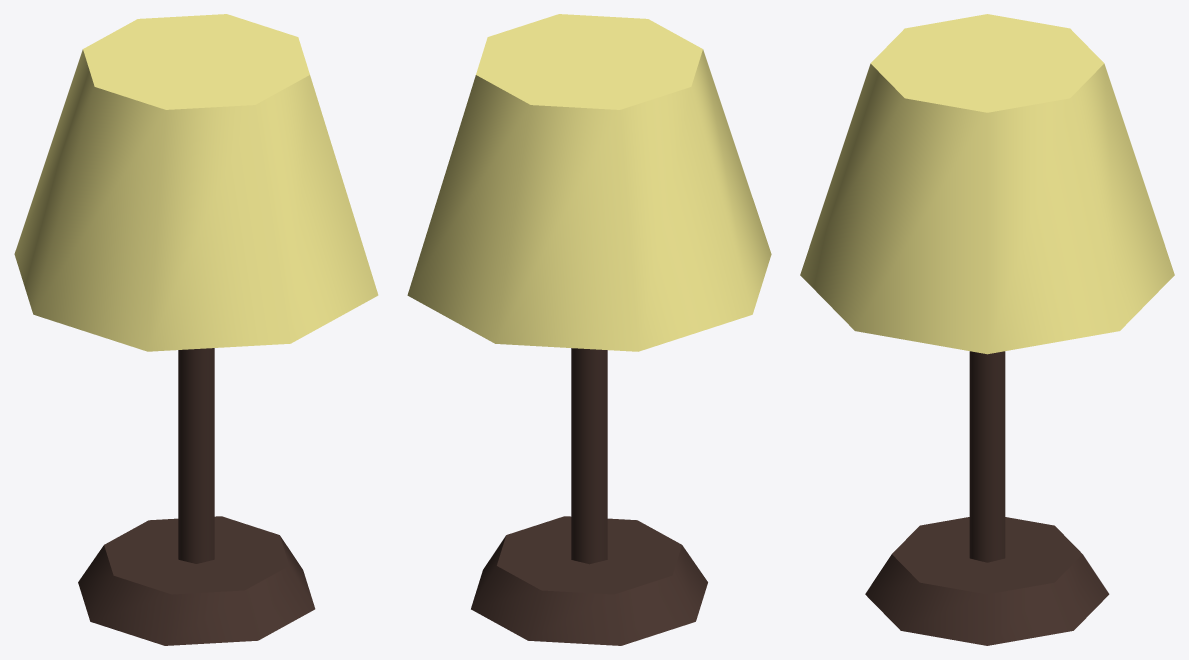
File: Lamp.FBX
The picture shows the model from 3 angles, left to right: view 1: azimuth 30°, elevation 25°; view 2: azimuth 150°, elevation 25°; view 3: azimuth 270°, elevation 25°; orthographic projection.
Visible parts, largest first — view 1: Lamp; view 2: Lamp; view 3: Lamp.
Boxes of the visible parts, x1,y1,x2,y2 form: Lamp: (14,14,378,645); Lamp: (407,14,771,645); Lamp: (800,14,1174,645).
Bounding box in the file's own units: 10.67 × 16.68 × 10.67.
Materials: 1 (1 with a texture image).
